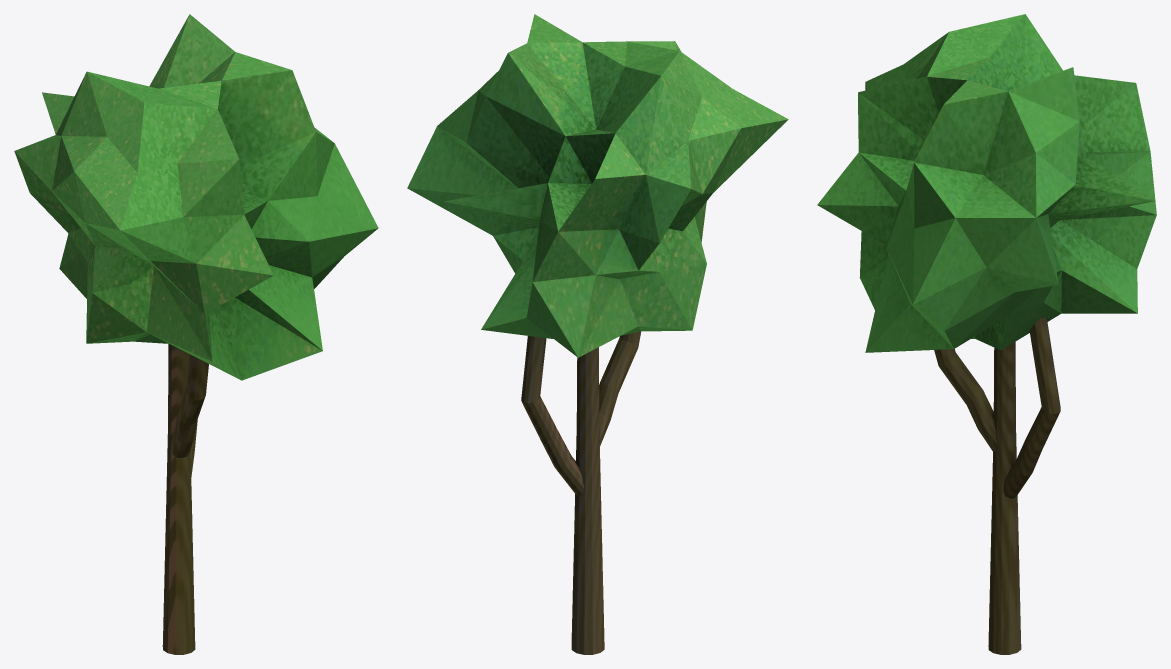
Rendered from Forest-Tree.glb.
The picture shows the model from 3 angles, left to right: view 1: azimuth 30°, elevation 25°; view 2: azimuth 150°, elevation 25°; view 3: azimuth 270°, elevation 25°; orthographic projection.
Parts seen in each view (by area): view 1: Cube.035_Cube.040; view 2: Cube.035_Cube.040; view 3: Cube.035_Cube.040.
Boxes of the visible parts, x1,y1,x2,y2 form: Cube.035_Cube.040: (14,14,378,654); Cube.035_Cube.040: (407,14,788,654); Cube.035_Cube.040: (817,14,1156,654).
Bounding box in the file's own units: 4.62 × 9.21 × 4.7.
1 material, 1 textured.
